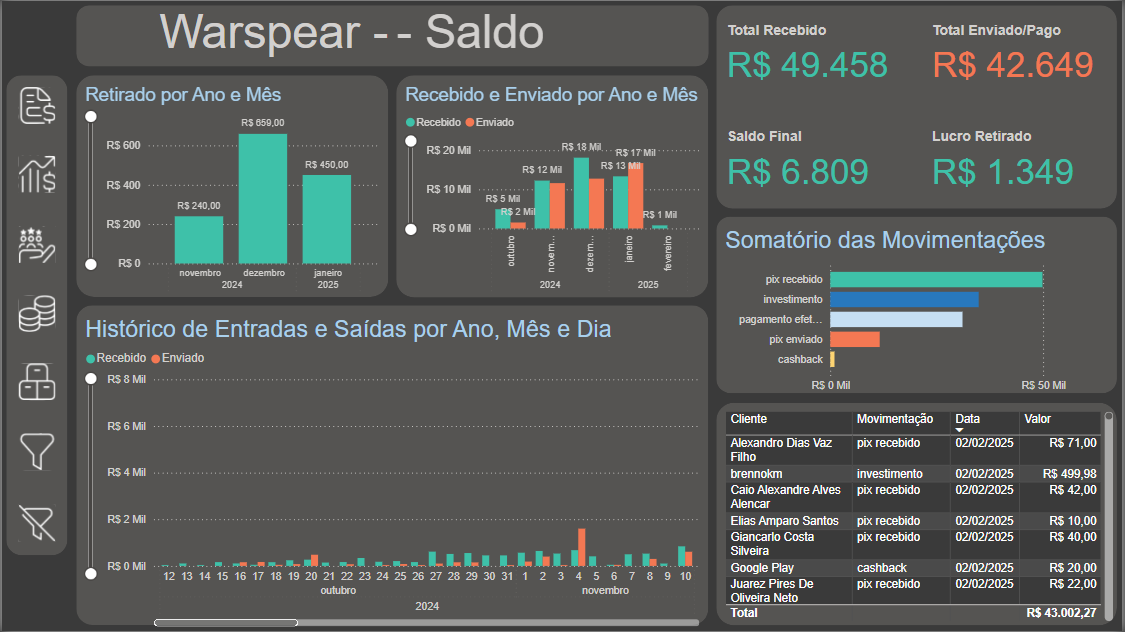

This screenshot's page, from the dashboard's own definition file:
{"tool":"powerbi","page":{"name":"WS","canvas":[1280,720],"ordinal":0},"visuals":[{"type":"textbox","title":"Título Saldo","box":[445.6,0,366,80],"z":0,"group":"g3"},{"type":"shape","title":"Fundo Menu","box":[0,80,80,558.7],"z":0,"group":"g2"},{"type":"cardVisual","title":"Lucro Retirado","fields":{"Data":["Sum(ws fato_transacao.valor)"]},"box":[1045.6,121,234,121],"z":0,"group":"g1"},{"type":"shape","title":"Fundo 6","box":[812,454,468,264.5],"z":0},{"type":"clusteredColumnChart","title":"Retirado por Ano e Mês","fields":{"Category":["ws dim_tempo.data.Variation.Hierarquia de datas.Ano","ws dim_tempo.data.Variation.Hierarquia de datas.Mês"],"Y":["Sum(ws fato_transacao.valor_ganho)"]},"box":[79.6,80,366.1,263],"z":1000,"group":"g3"},{"type":"cardVisual","title":"Saldo Final","fields":{"Data":["Sum(ws fato_transacao.valor)"]},"box":[811.6,121,234,121],"z":1000,"group":"g1"},{"type":"shape","title":"Fundo 5","box":[812,242,468,212],"z":1000},{"type":"actionButton","title":"Botão Limpa-Filtros","box":[0,554,80,85],"z":1000,"group":"g2"},{"type":"shape","title":"Fundo 4","box":[812,0,468,242.5],"z":2000},{"type":"cardVisual","title":"Total Enviado/Pago","fields":{"Data":["Sum(ws fato_transacao.valor_gasto)"]},"box":[1045.6,0,234,121],"z":2000,"group":"g1"},{"type":"clusteredColumnChart","fields":{"Category":["ws dim_tempo.data.Variation.Hierarquia de datas.Ano","ws dim_tempo.data.Variation.Hierarquia de datas.Mês"],"Y":["Sum(ws fato_transacao.valor_ganho)","Sum(ws fato_transacao.valor_gasto)"]},"box":[445.6,80,366,263],"z":2000,"group":"g3"},{"type":"actionButton","title":"Botão Filtros","box":[0,475,80,79],"z":2000,"group":"g2"},{"type":"cardVisual","title":"Total Recebido","fields":{"Data":["Sum(ws fato_transacao.valor_ganho)"]},"box":[811.6,0,234,121],"z":3000,"group":"g1"},{"type":"shape","title":"Fundo 3","box":[80,343,732.4,375.5],"z":3000},{"type":"clusteredColumnChart","title":"Histórico de Entradas e Saídas por Ano, Mês e Dia","fields":{"Category":["ws dim_tempo.data.Variation.Hierarquia de datas.Ano","ws dim_tempo.data.Variation.Hierarquia de datas.Mês","ws dim_tempo.data.Variation.Hierarquia de datas.Dia"],"Y":["Sum(ws fato_transacao.valor_ganho)","Sum(ws fato_transacao.valor_gasto)"]},"box":[79.6,343.8,732,375.1],"z":3000,"group":"g3"},{"type":"actionButton","title":"Promoções","box":[0,396,80,79],"z":3000,"group":"g2"},{"type":"group","id":"g1","title":"Cartões","box":[811.6,0,468,242],"z":4000,"group":"g3"},{"type":"shape","title":"Fundo 2","box":[446,80,366.6,264],"z":4000},{"type":"actionButton","title":"Coins","box":[0,317,80,79.6],"z":4000,"group":"g2"},{"type":"shape","title":"Fundo 1","box":[80,80,366.6,263.4],"z":5000},{"type":"actionButton","title":"Clientes","box":[0,238,80,79.6],"z":5000,"group":"g2"},{"type":"clusteredBarChart","title":"Somatório das Movimentações","fields":{"Category":["ws dim_movimentacao.tipo_movimentacao"],"Y":["Sum(ws fato_transacao.valor_positivo)"]},"box":[811.6,243,468,212.1],"z":5000,"group":"g3"},{"type":"actionButton","title":"Investimento","box":[0,159,80,79],"z":6000,"group":"g2"},{"type":"tableEx","title":"Tabela Transações","fields":{"Values":["ws dim_cliente.nome_cliente","ws dim_movimentacao.tipo_movimentacao","ws dim_tempo.data","Sum(ws fato_transacao.valor)"]},"box":[811.6,454,468,264.2],"z":6000,"group":"g3"},{"type":"shape","title":"Fundo Título","box":[80,0,732.9,80],"z":7000},{"type":"actionButton","title":"Saldo","box":[0,80,80,79],"z":7000,"group":"g2"},{"type":"textbox","title":"Título Warspear","box":[80,0,366.5,80],"z":8000},{"type":"group","id":"g2","title":"Menu","box":[0,80,80,559],"z":9000},{"type":"group","id":"g3","title":"Visualização Saldo","box":[79.6,0,1200,718.9],"z":14000}]}

Visuals, with their boxes in screenshot pixels (x1, y1, x2, y2), scaled from the page's 1280x720 canvas onto the 1125x632 screenshot:
"Título Saldo" textbox: <region>392, 0, 713, 70</region>
"Fundo Menu" shape: <region>0, 70, 70, 561</region>
"Lucro Retirado" cardVisual: <region>919, 106, 1124, 212</region>
"Fundo 6" shape: <region>714, 399, 1124, 631</region>
"Retirado por Ano e Mês" clusteredColumnChart: <region>70, 70, 392, 301</region>
"Saldo Final" cardVisual: <region>713, 106, 919, 212</region>
"Fundo 5" shape: <region>714, 212, 1124, 399</region>
"Botão Limpa-Filtros" actionButton: <region>0, 486, 70, 561</region>
"Fundo 4" shape: <region>714, 0, 1124, 213</region>
"Total Enviado/Pago" cardVisual: <region>919, 0, 1124, 106</region>
clusteredColumnChart - ws dim_tempo.data.Variation.Hierarquia de datas.Ano x ws dim_tempo.data.Variation.Hierarquia de datas.Mês: <region>392, 70, 713, 301</region>
"Botão Filtros" actionButton: <region>0, 417, 70, 486</region>
"Total Recebido" cardVisual: <region>713, 0, 919, 106</region>
"Fundo 3" shape: <region>70, 301, 714, 631</region>
"Histórico de Entradas e Saídas por Ano, Mês e Dia" clusteredColumnChart: <region>70, 302, 713, 631</region>
"Promoções" actionButton: <region>0, 348, 70, 417</region>
"Cartões" group: <region>713, 0, 1124, 212</region>
"Fundo 2" shape: <region>392, 70, 714, 302</region>
"Coins" actionButton: <region>0, 278, 70, 348</region>
"Fundo 1" shape: <region>70, 70, 393, 301</region>
"Clientes" actionButton: <region>0, 209, 70, 279</region>
"Somatório das Movimentações" clusteredBarChart: <region>713, 213, 1124, 399</region>
"Investimento" actionButton: <region>0, 140, 70, 209</region>
"Tabela Transações" tableEx: <region>713, 399, 1124, 630</region>
"Fundo Título" shape: <region>70, 0, 714, 70</region>
"Saldo" actionButton: <region>0, 70, 70, 140</region>
"Título Warspear" textbox: <region>70, 0, 392, 70</region>
"Menu" group: <region>0, 70, 70, 561</region>
"Visualização Saldo" group: <region>70, 0, 1124, 631</region>
